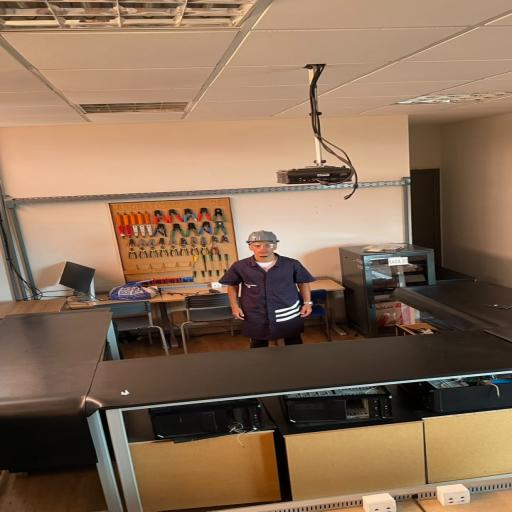CAPACETE: (246, 230, 280, 244)
OCULOS: (249, 242, 277, 248)
